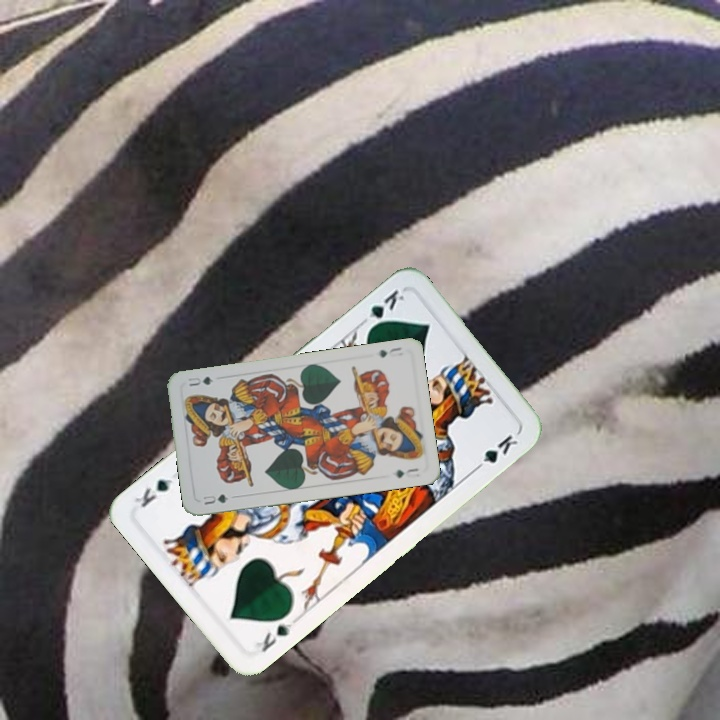GK: (356, 285, 408, 334), (247, 617, 295, 656)
GU: (199, 490, 231, 507), (376, 343, 405, 360)
